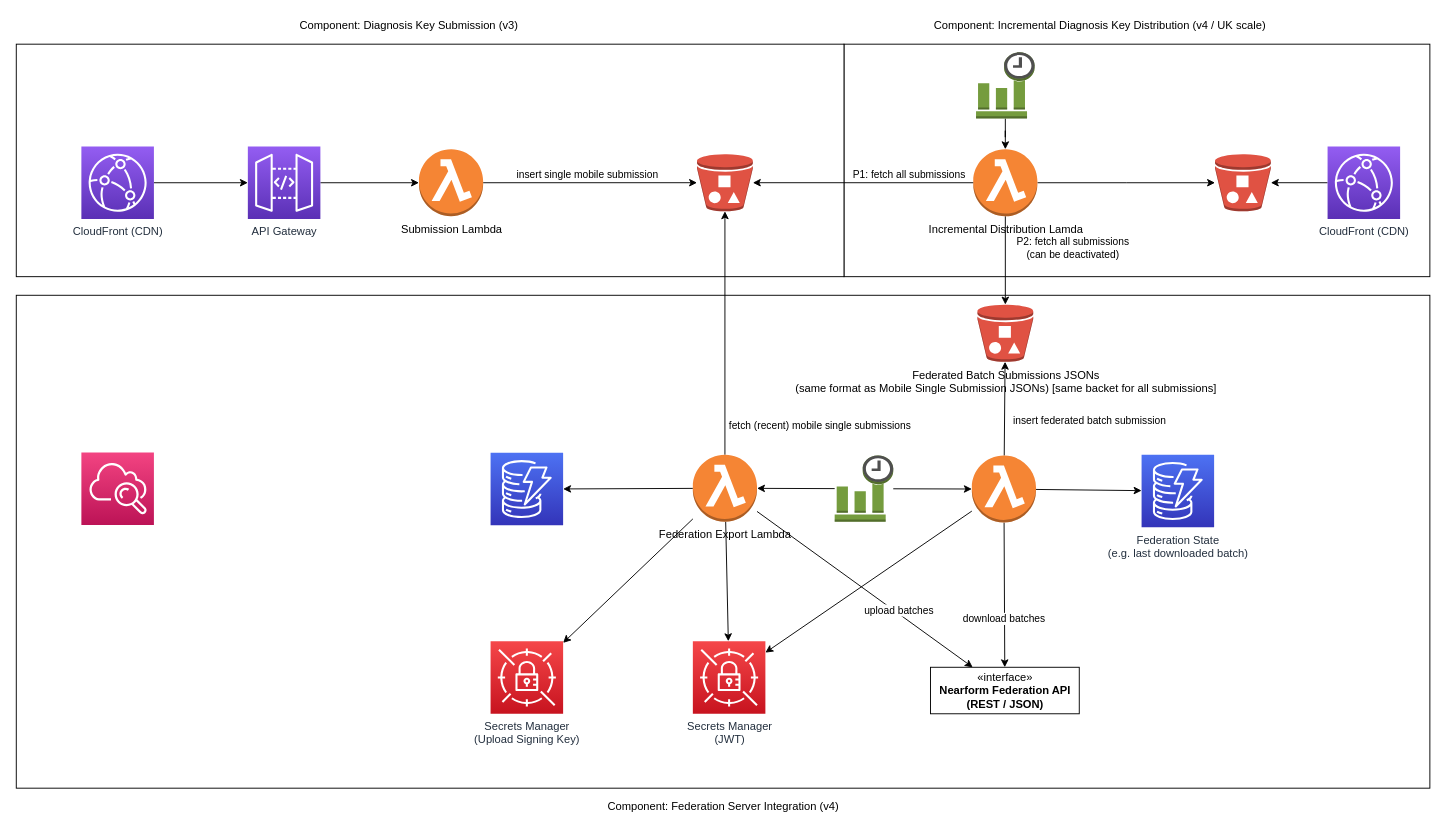
Some shapes in this 1446 by 831 pixel diagram are drawn without their labels. Each missing label, with the box of its shape:
Distribution ZIPs: (1214, 153, 1271, 211)
Federation Import Lambda: (971, 455, 1036, 523)
Federation Logs, Metrics & Alerts e.g. Imported Key Volume > threshold: (80, 452, 154, 525)
Federation State (e.g. last upload submission time window): (490, 452, 563, 525)
Mobile Single Submission JSONs: (696, 153, 753, 211)
